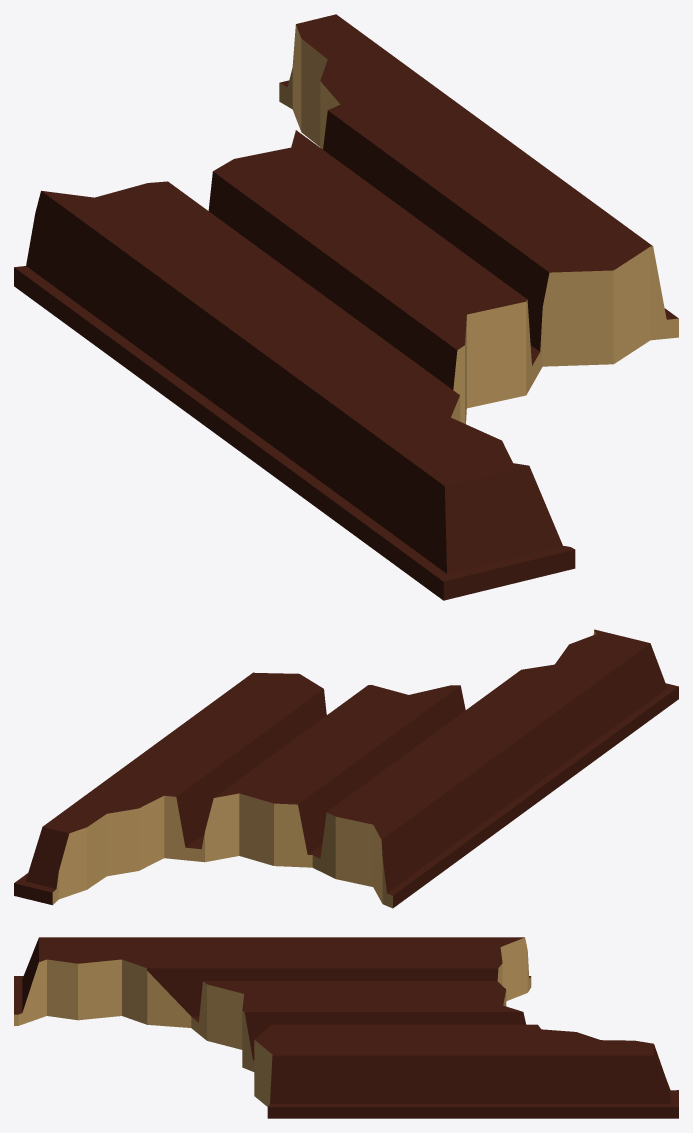
Rendered from BitBat5.fbx.
3 renders of one model, top to bottom at view 1: azimuth 30°, elevation 25°; view 2: azimuth 150°, elevation 25°; view 3: azimuth 270°, elevation 25°, orthographic. The views are drawn at different scales.
Parts seen in each view (by area): view 1: Cube.007; view 2: Cube.007; view 3: Cube.007.
Boxes of the visible parts, box(x1,y1,x2,y2) form: Cube.007: box(14, 14, 678, 600); Cube.007: box(14, 629, 678, 908); Cube.007: box(14, 937, 678, 1118).
Size of the model in its own units: 432 by 86.75 by 925.
